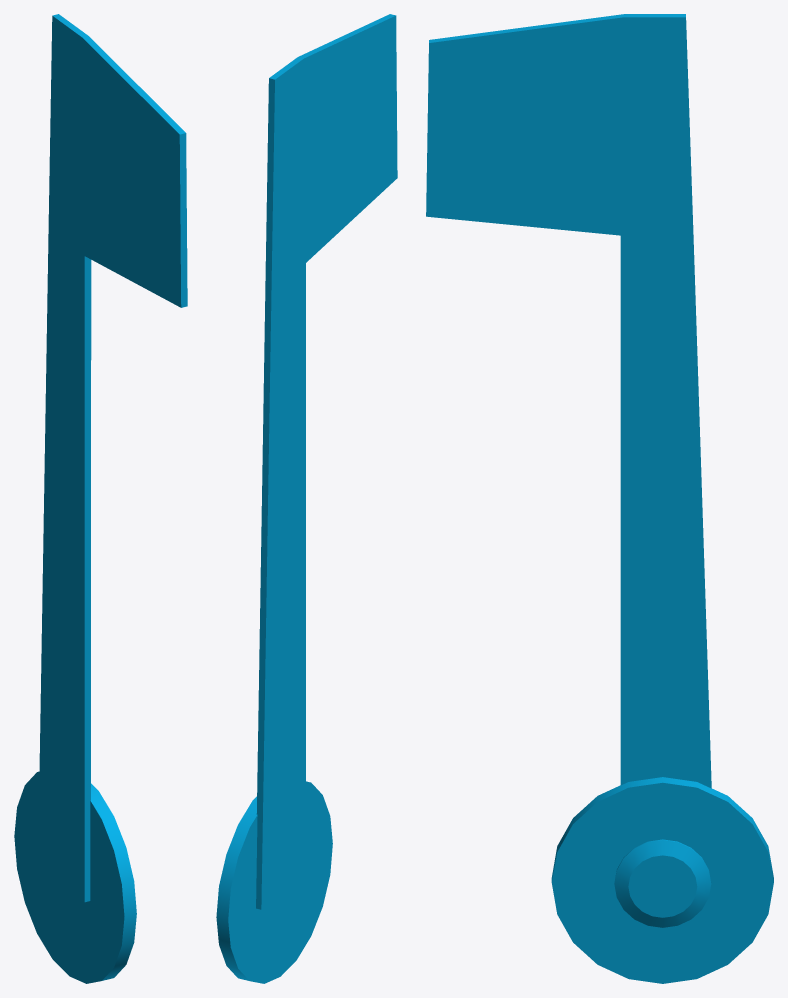
The model's file is Mailbox_01_Handle_Lod0.fbx.
The picture shows the model from 3 angles, left to right: view 1: azimuth 30°, elevation 25°; view 2: azimuth 150°, elevation 25°; view 3: azimuth 270°, elevation 25°; orthographic projection. The views are drawn at different scales.
Parts seen in each view (by area): view 1: Mailbox_01_Handle_Lod0; view 2: Mailbox_01_Handle_Lod0; view 3: Mailbox_01_Handle_Lod0.
Boxes of the visible parts, left/top/right/bottom form: Mailbox_01_Handle_Lod0: left=14, top=14, right=187, bottom=983; Mailbox_01_Handle_Lod0: left=216, top=14, right=397, bottom=983; Mailbox_01_Handle_Lod0: left=426, top=14, right=773, bottom=983.
Size of the model in its own units: 0.655 by 24.18 by 7.93.
